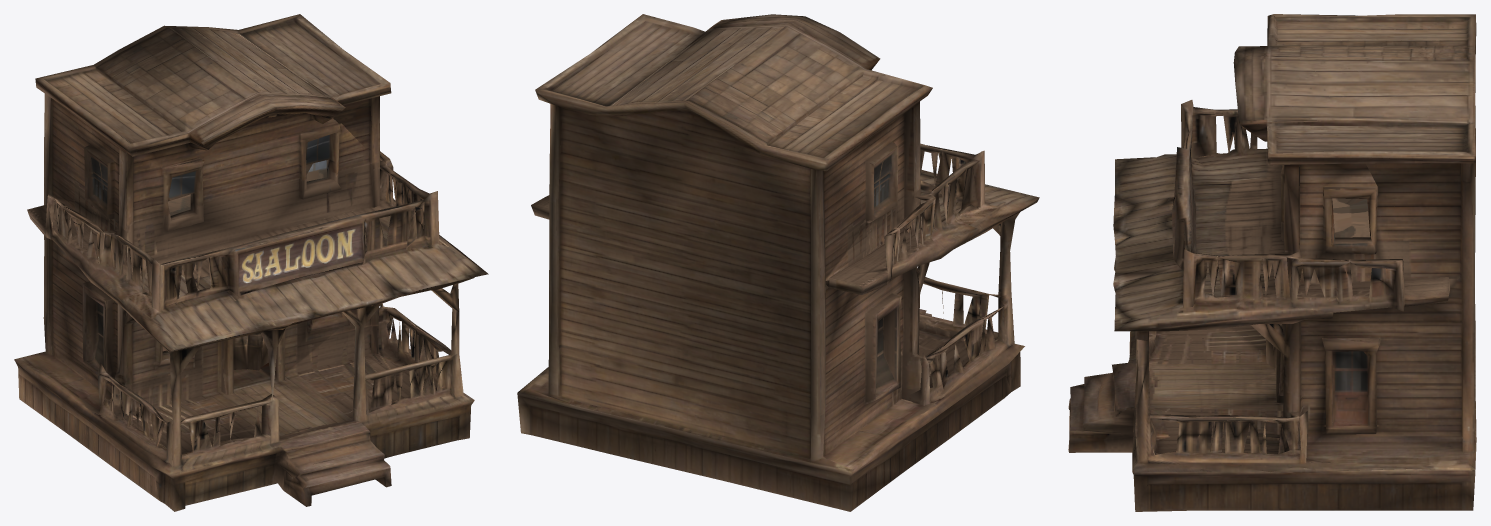
File: Western_Saloon_Scene_1121032414_texture.fbx
3 renders of one model, left to right at view 1: azimuth 30°, elevation 25°; view 2: azimuth 150°, elevation 25°; view 3: azimuth 270°, elevation 25°, orthographic. The views are drawn at different scales.
Visible parts, largest first — view 1: Mesh1.0; view 2: Mesh1.0; view 3: Mesh1.0.
Boxes of the visible parts, box(x1,y1,x2,y2) form: Mesh1.0: box(14, 14, 488, 511); Mesh1.0: box(517, 14, 1039, 511); Mesh1.0: box(1068, 14, 1476, 511).
Bounding box in the file's own units: 198 × 201 × 199.
1 material, 1 textured.
